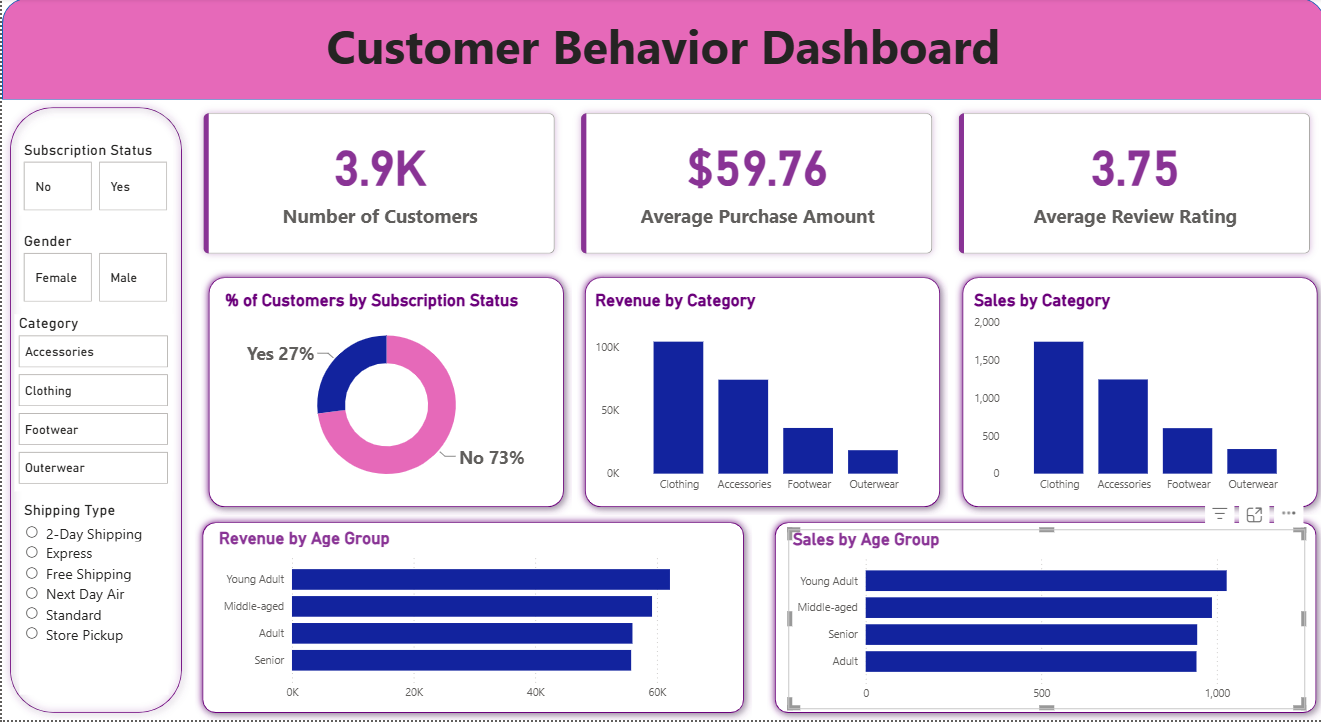

What the dashboard file says about the page in this screenshot:
{"tool":"powerbi","page":{"name":"Page 1","canvas":[1500,820],"ordinal":0},"visuals":[{"type":"cardVisual","fields":{"Data":["public customer.Number of Customers","public customer.Average Purchase Amount","public customer.Average Review Rating"]},"box":[212.9,115.3,1286.5,191.6],"z":2000},{"type":"shape","box":[218.3,585.6,631.7,234.2],"z":2500,"group":"g1"},{"type":"shape","box":[0,0,1499.4,115.3],"z":3000},{"type":"textbox","box":[0,12.4,1499.4,102.9],"z":4000},{"type":"shape","box":[225.4,307,420.5,278.6],"z":5000},{"type":"donutChart","title":"% of Customers by Subscription Status","fields":{"Category":["public customer.subscription_status"],"Y":["CountNonNull(public customer.customer_id)"]},"box":[248.4,331.8,376.2,237.8],"z":6000},{"type":"shape","box":[1078.9,307,420.5,278.6],"z":7000},{"type":"shape","box":[652.1,307,420.5,278.6],"z":8000},{"type":"clusteredColumnChart","title":"Revenue by Category","fields":{"Category":["public customer.category"],"Y":["Sum(public customer.purchase_amount)"]},"box":[667.2,331.8,385.1,237.8],"z":9000},{"type":"clusteredColumnChart","title":"Sales by Category","fields":{"Category":["public customer.category"],"Y":["CountNonNull(public customer.customer_id)"]},"box":[1096.6,331.8,385.1,237.8],"z":10000},{"type":"shape","box":[0,115.3,212.9,704.5],"z":11000},{"type":"advancedSlicerVisual","fields":{"Values":["public customer.subscription_status"]},"box":[19.5,161.5,173.9,85.2],"z":12000},{"type":"advancedSlicerVisual","fields":{"Values":["public customer.gender"]},"box":[19.5,264.4,173.9,85.2],"z":13000},{"type":"advancedSlicerVisual","fields":{"Values":["public customer.category"]},"box":[14.2,358.4,179.9,201.2],"z":14000},{"type":"listSlicer","fields":{"Values":["public customer.shipping_type"]},"box":[19.5,569.6,168.6,220],"z":15000},{"type":"shape","box":[867.7,585.6,631.7,234.2],"z":16000},{"type":"clusteredBarChart","title":"Sales by Age Group","fields":{"Category":["public customer.age_group"],"Y":["CountNonNull(public customer.customer_id)"]},"box":[890.8,601.5,585.6,204.1],"z":17000},{"type":"clusteredBarChart","title":"Revenue by Age Group","fields":{"Category":["public customer.age_group"],"Y":["Sum(public customer.purchase_amount)"]},"box":[241.4,601.6,585.6,204.1],"z":17500,"group":"g1"},{"type":"group","id":"g1","title":"Group 1","box":[218.3,585.6,631.7,234.2],"z":17501}]}

Visuals, with their boxes in screenshot pixels (x1, y1, x2, y2), scaled from the page's 1500x820 canvas onto the 1321x722 screenshot:
cardVisual - public customer.Number of Customers x public customer.Average Purchase Amount: {"left": 187, "top": 102, "right": 1320, "bottom": 270}
shape: {"left": 192, "top": 516, "right": 749, "bottom": 721}
shape: {"left": 0, "top": 0, "right": 1320, "bottom": 102}
textbox: {"left": 0, "top": 11, "right": 1320, "bottom": 102}
shape: {"left": 199, "top": 270, "right": 569, "bottom": 516}
"% of Customers by Subscription Status" donutChart: {"left": 219, "top": 292, "right": 550, "bottom": 502}
shape: {"left": 950, "top": 270, "right": 1320, "bottom": 516}
shape: {"left": 574, "top": 270, "right": 945, "bottom": 516}
"Revenue by Category" clusteredColumnChart: {"left": 588, "top": 292, "right": 927, "bottom": 502}
"Sales by Category" clusteredColumnChart: {"left": 966, "top": 292, "right": 1305, "bottom": 502}
shape: {"left": 0, "top": 102, "right": 187, "bottom": 721}
advancedSlicerVisual - public customer.subscription_status: {"left": 17, "top": 142, "right": 170, "bottom": 217}
advancedSlicerVisual - public customer.gender: {"left": 17, "top": 233, "right": 170, "bottom": 308}
advancedSlicerVisual - public customer.category: {"left": 13, "top": 316, "right": 171, "bottom": 493}
listSlicer - public customer.shipping_type: {"left": 17, "top": 502, "right": 166, "bottom": 695}
shape: {"left": 764, "top": 516, "right": 1320, "bottom": 721}
"Sales by Age Group" clusteredBarChart: {"left": 784, "top": 530, "right": 1300, "bottom": 709}
"Revenue by Age Group" clusteredBarChart: {"left": 213, "top": 530, "right": 728, "bottom": 709}
"Group 1" group: {"left": 192, "top": 516, "right": 749, "bottom": 721}
